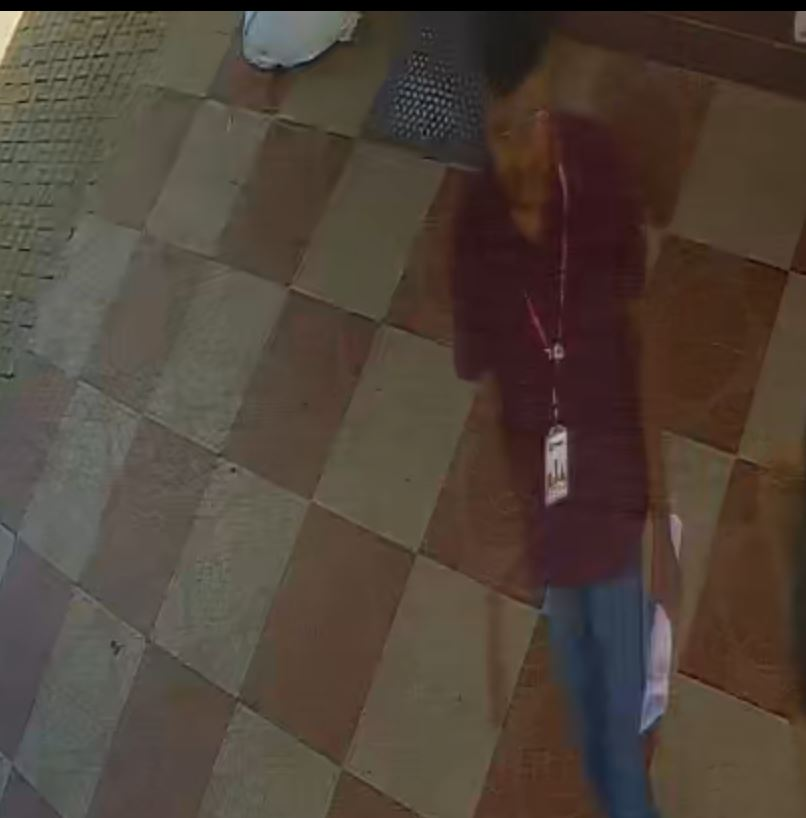intruder: (441, 11, 684, 815)
